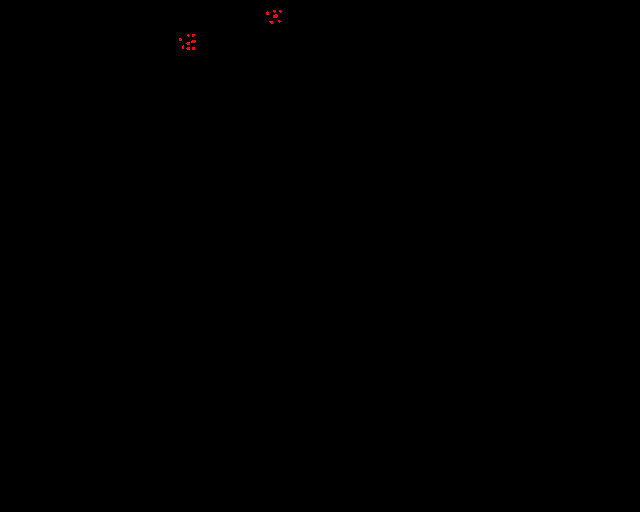Target: (273, 14, 278, 18), (191, 40, 196, 43), (266, 11, 269, 15), (269, 21, 273, 24), (186, 42, 190, 45), (186, 47, 190, 50), (273, 10, 276, 13), (279, 10, 282, 13), (278, 20, 281, 23), (192, 34, 195, 37), (179, 38, 182, 41), (192, 47, 195, 50), (182, 45, 184, 49), (187, 34, 189, 37)
